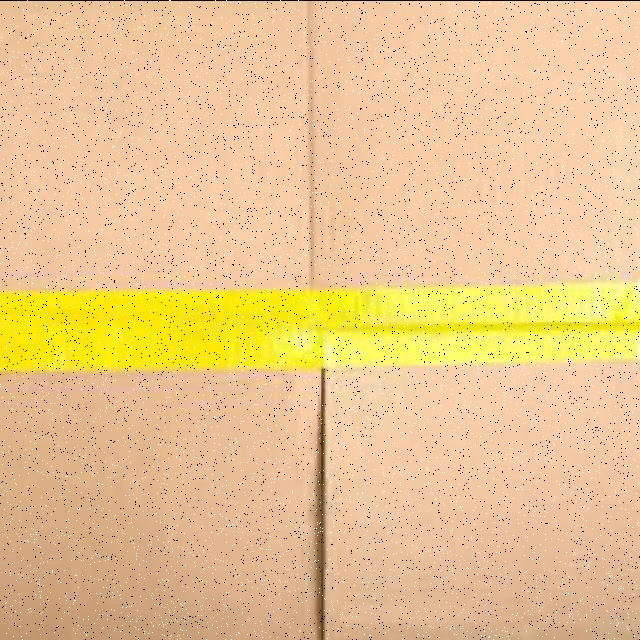normal: (6, 8, 640, 622)
